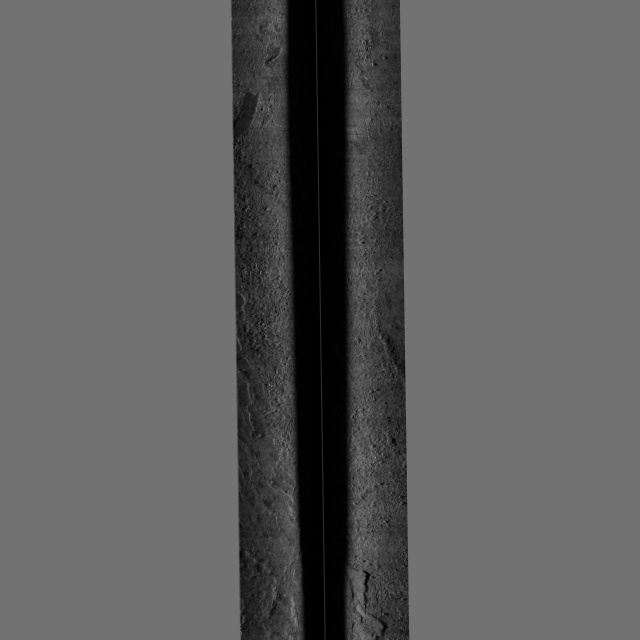Shipwreck: (232, 54, 282, 139)
